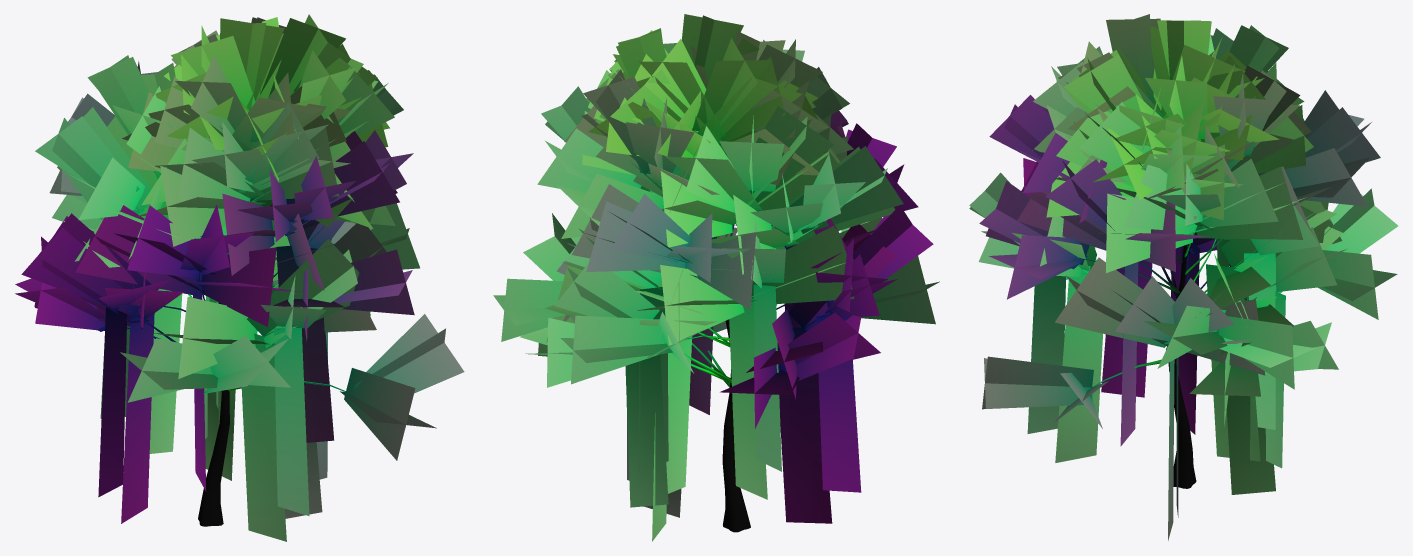
The model's file is Tree_10_1.fbx.
The picture shows the model from 3 angles, left to right: view 1: azimuth 30°, elevation 25°; view 2: azimuth 150°, elevation 25°; view 3: azimuth 270°, elevation 25°; orthographic projection. The views are drawn at different scales.
Parts seen in each view (by area): view 1: _1; view 2: _1; view 3: _1.
Part boxes in pixels (x1,y1,x2,y2): _1: [15, 14, 464, 541]; _1: [493, 14, 939, 541]; _1: [969, 14, 1398, 540].
Size of the model in its own units: 1259 by 1596 by 1296.
